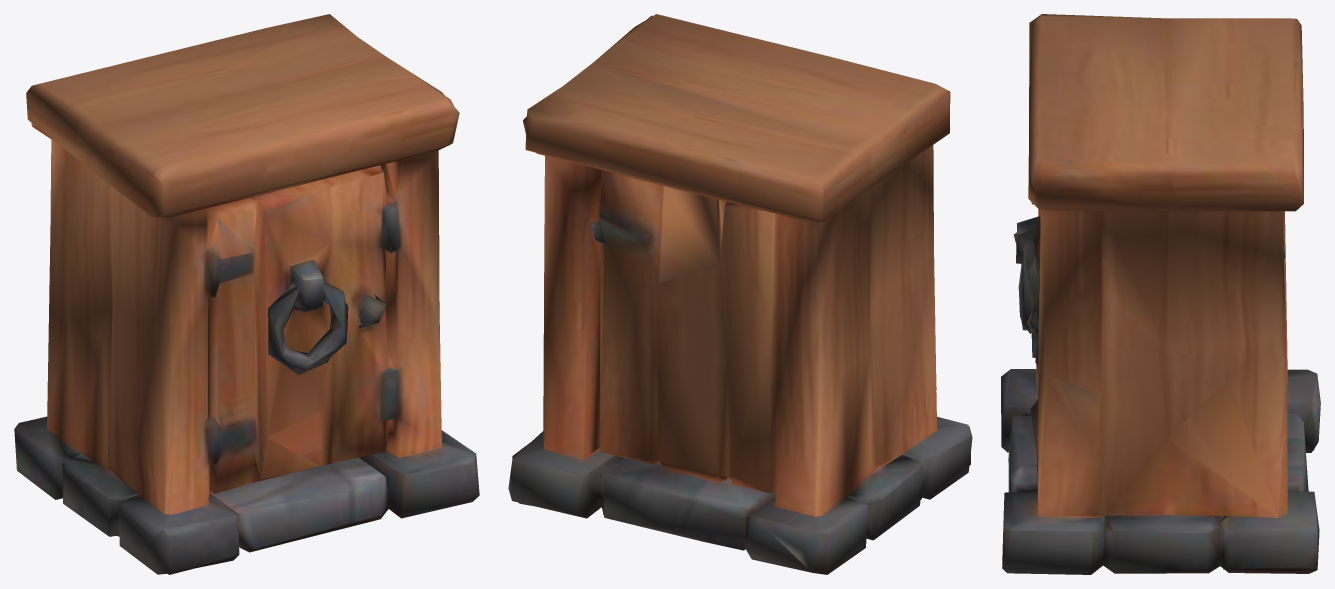
The model's file is lg-trapdoor.glb.
3 views of the same model, side by side, from view 1: azimuth 30°, elevation 25°; view 2: azimuth 150°, elevation 25°; view 3: azimuth 270°, elevation 25° (orthographic). The views are drawn at different scales.
Parts seen in each view (by area): view 1: geometry_0; view 2: geometry_0; view 3: geometry_0.
Part boxes in pixels (<box>): geometry_0: <box>14,14,479,574</box>; geometry_0: <box>508,14,972,574</box>; geometry_0: <box>1001,14,1320,574</box>.
Bounding box in the file's own units: 0.8555 × 1 × 0.7055.
1 material, 1 textured.
